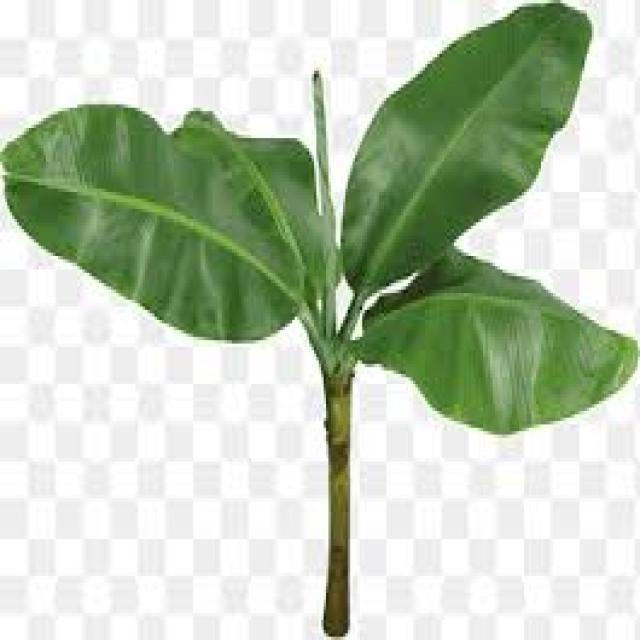banana_leaf: (1, 1, 637, 634)
leaf: (0, 101, 332, 344), (339, 1, 593, 305), (350, 244, 638, 436)
